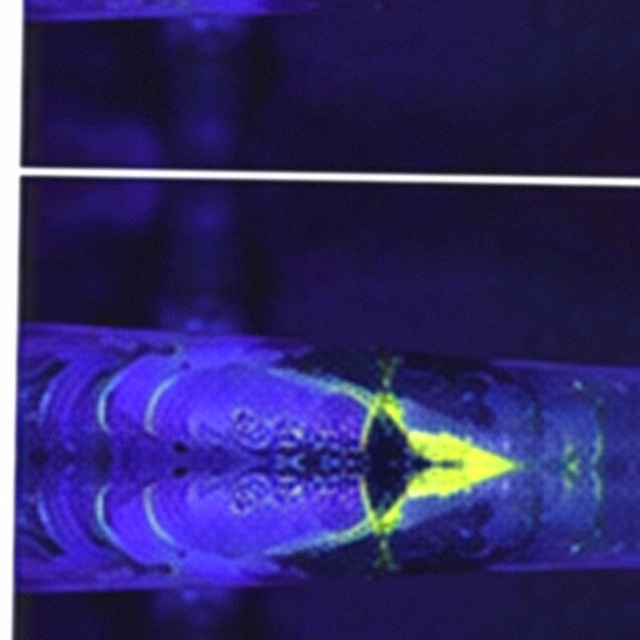hydraulic_oil_leak: (332, 432, 523, 538), (336, 384, 405, 431), (566, 459, 577, 474), (384, 555, 389, 559), (567, 480, 570, 484), (389, 368, 392, 372), (386, 380, 389, 382)
